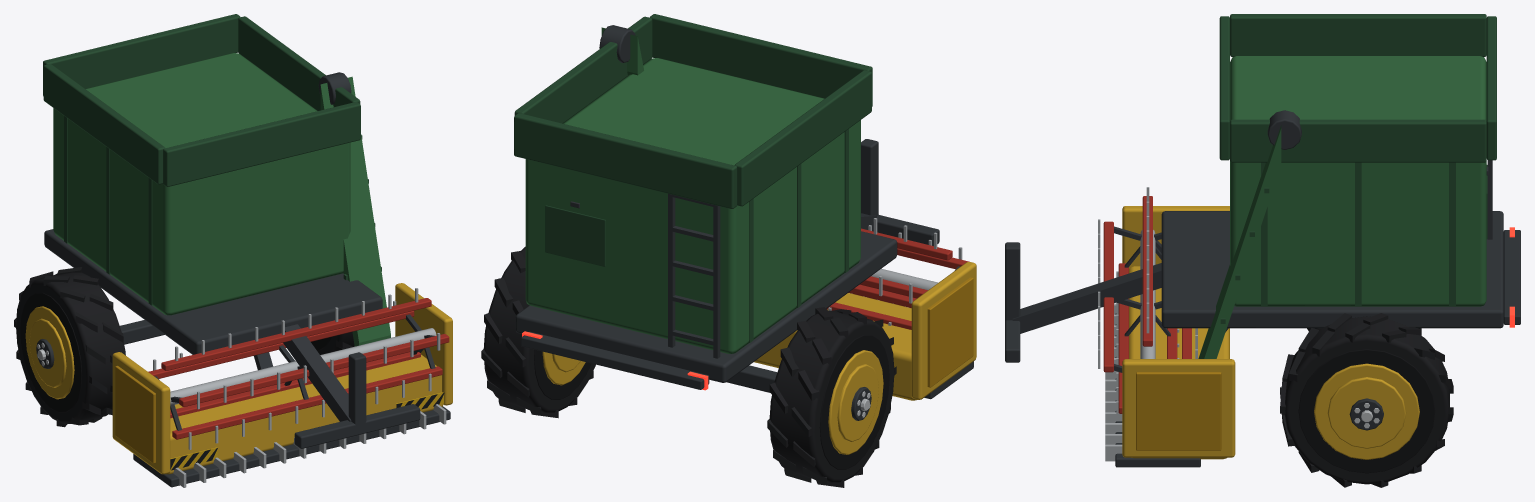
File: im_harvester.glb
3 renders of one model, left to right at view 1: azimuth 30°, elevation 25°; view 2: azimuth 150°, elevation 25°; view 3: azimuth 270°, elevation 25°, orthographic. The views are drawn at different scales.
Parts seen in each view (by area): view 1: block.088, block.003, block.006, block.097, block.098, cyl.001, block.089, bar.075, block.093, block.023, block.028, block.022 (+18 smaller); view 2: block.088, block.098, block.003, block.097, cyl.001, block.089, cyl.024, block.093, block.023, block.022, block, block.106 (+21 smaller); view 3: block.088, block.003, block.089, block.093, cyl.024, block.026, cyl.026, block.025, cyl.037, bar.075, cyl.038, bar (+17 smaller).
Boxes of the visible parts, x1,y1,x2,y2 form: block.088: (53,53,350,315); block.003: (44,229,382,354); block.006: (166,354,443,474); block.097: (163,102,360,186); block.098: (43,14,240,96); cyl.001: (16,272,125,423); block.089: (43,64,164,184); bar.075: (320,76,390,346); block.093: (238,16,360,110); block.023: (115,365,155,463); block.028: (161,298,431,370); block.022: (112,352,170,474); block.088: (525,58,860,353); block.098: (514,113,737,208); block.003: (515,231,897,382); block.097: (650,14,872,106); cyl.001: (769,310,894,482); block.089: (734,70,871,206); cyl.024: (483,246,595,412); block.093: (514,16,652,123); block.023: (927,277,973,387); block.022: (911,262,976,399); block: (521,331,709,389); block.106: (545,205,605,266); block.088: (1230,56,1486,306); block.003: (1161,211,1503,328); block.089: (1230,14,1486,56); block.093: (1230,119,1486,162); cyl.024: (1284,316,1449,484); block.026: (1136,372,1221,450); cyl.026: (1298,349,1435,473); block.025: (1122,359,1235,457); cyl.037: (1314,363,1419,459); bar.075: (1198,125,1281,358); cyl.038: (1327,377,1406,448); bar: (1012,263,1161,333).
Size of what is drawn, in the model's own units: 2.37 by 2.25 by 3.02.
